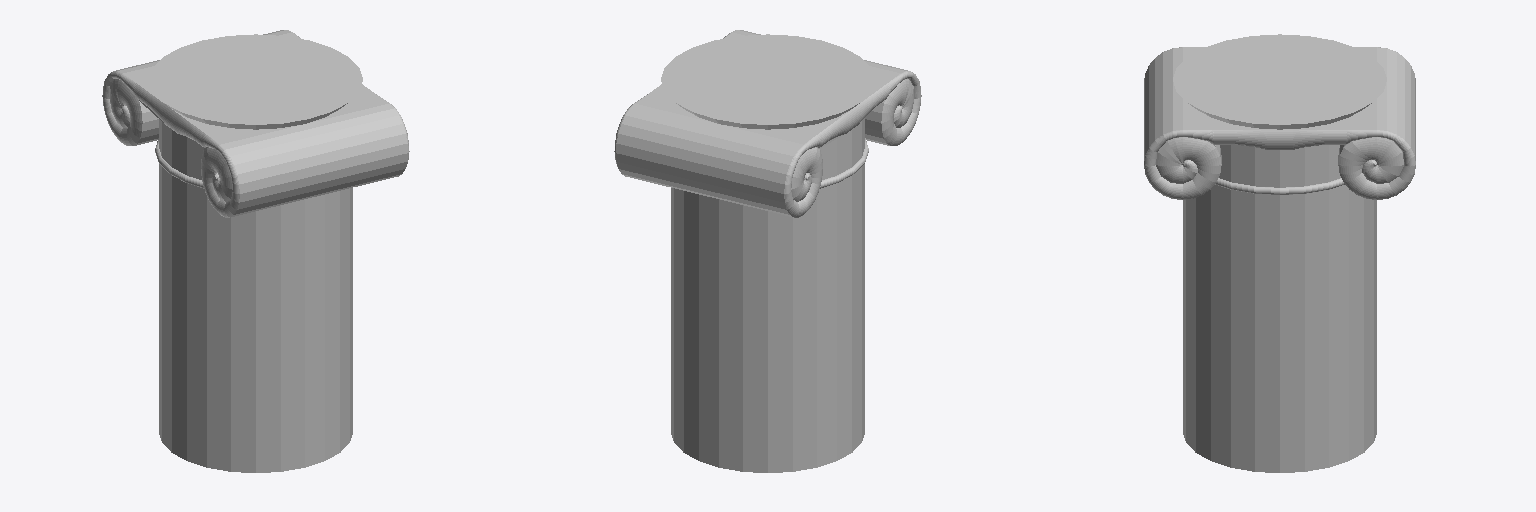
Rendered from medium_hat_column.obj.
The picture shows the model from 3 angles: view 1: azimuth 30°, elevation 25°; view 2: azimuth 150°, elevation 25°; view 3: azimuth 270°, elevation 25°; orthographic projection.
Parts seen in each view (by area): view 1: SketchUp.024; view 2: SketchUp.024; view 3: SketchUp.024.
Boxes of the visible parts, box(x1,y1,x2,y2) form: SketchUp.024: box(102, 30, 409, 472); SketchUp.024: box(614, 30, 921, 472); SketchUp.024: box(1144, 34, 1415, 472).
Bounding box in the file's own units: 0.5518 × 1 × 0.7.